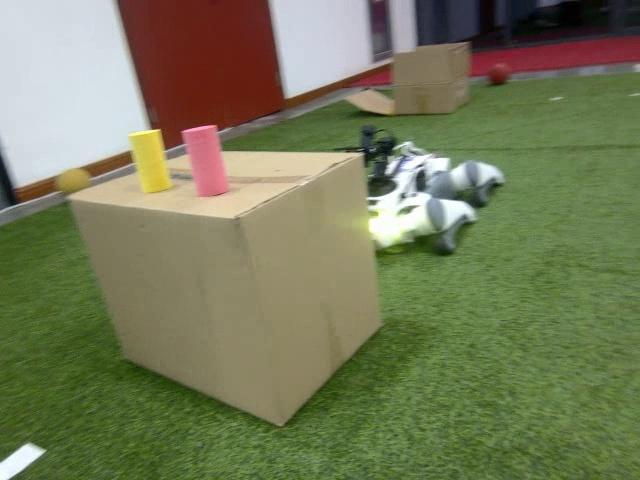red_cylinder: (181, 122, 232, 199)
yellow_cylinder: (126, 128, 174, 194)
